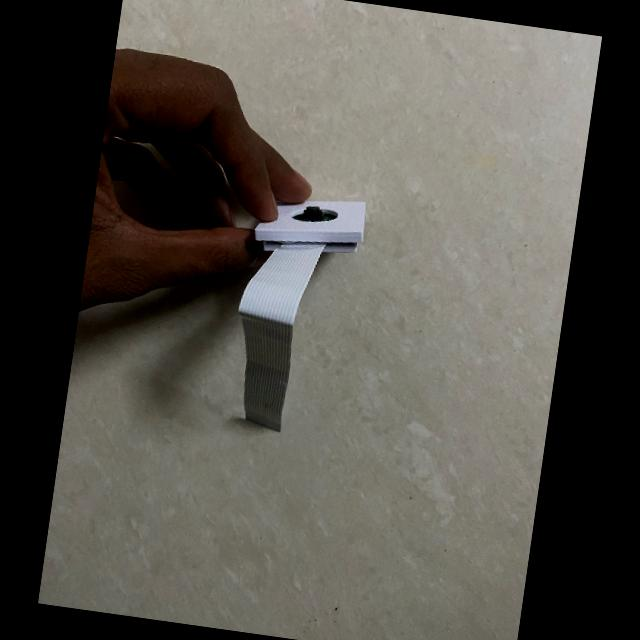RASPBERY PI CAM ENCLOSURE: (252, 187, 368, 264)
